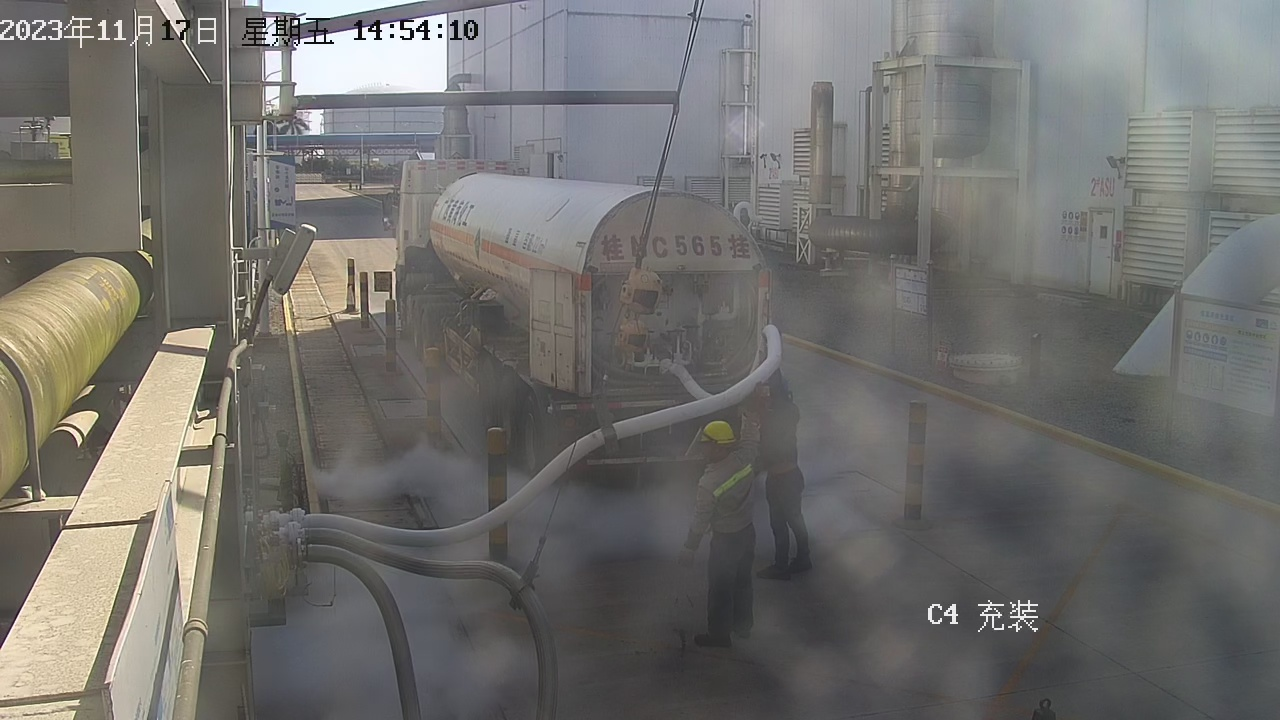Head_with_Helmet: (684, 410, 751, 467), (748, 357, 809, 407)
Uniform: (668, 452, 785, 651), (739, 396, 847, 581)
